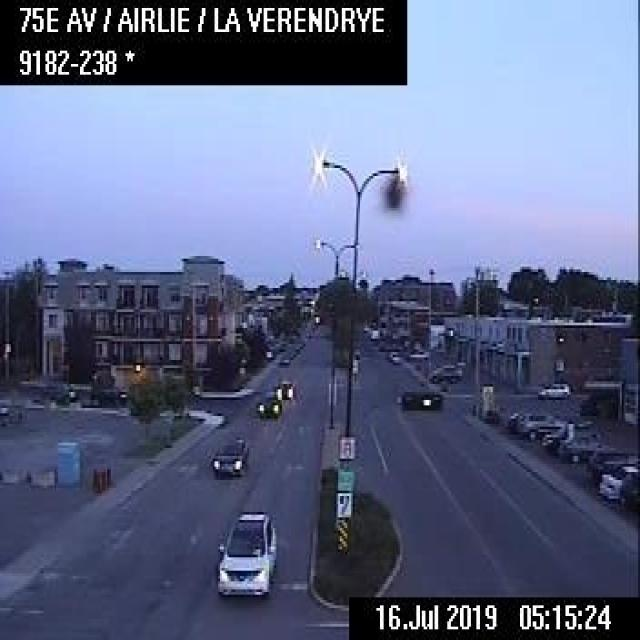construction: (99, 466, 106, 489), (104, 465, 111, 486), (95, 468, 100, 492), (90, 466, 95, 488)
vehicle: (213, 507, 280, 597), (207, 438, 251, 478), (556, 432, 613, 462), (540, 422, 595, 452), (585, 448, 637, 479), (515, 409, 568, 438), (598, 463, 636, 500), (30, 379, 76, 406), (88, 382, 126, 403), (426, 362, 461, 382), (534, 380, 570, 398), (254, 394, 278, 419), (618, 474, 637, 505), (273, 377, 292, 397), (407, 346, 428, 358), (276, 355, 290, 364), (390, 352, 400, 362)
